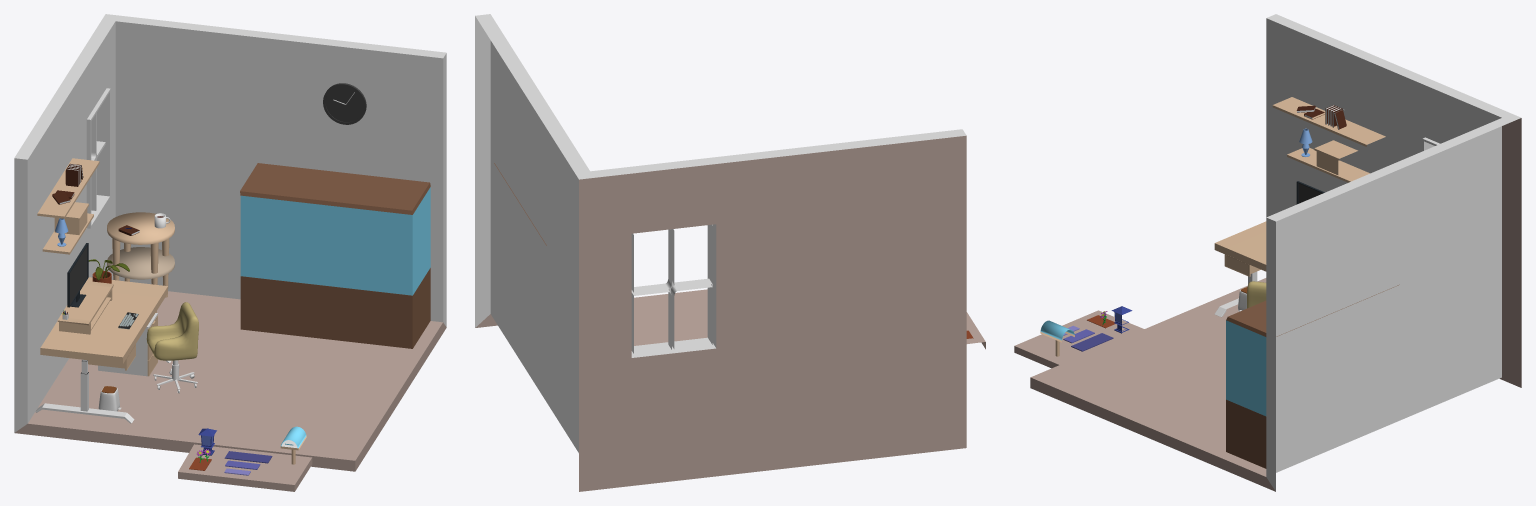
File: Room.glb
3 renders of one model, left to right at view 1: azimuth 30°, elevation 25°; view 2: azimuth 150°, elevation 25°; view 3: azimuth 270°, elevation 25°, orthographic. The views are drawn at different scales.
Parts seen in each view (by area): view 1: 3D Walls, Base/Top, Water, Table Top, Mini floor, Plane.001, Cube.015, Table Monitor, Top base, Watch, Sub base, Table Large (+7 smaller); view 2: 3D Walls, Plane.001; view 3: 3D Walls, Water, Base/Top, Mini floor, Table Top, Table Large, Table Short, Carton Box.
Part boxes in pixels (x1,y1,x2,y2): 3D Walls: (14,14,446,471); Base/Top: (240,163,430,348); Water: (240,187,430,295); Table Top: (40,277,167,364); Mini floor: (178,444,312,491); Plane.001: (86,88,110,228); Cube.015: (146,302,198,360); Table Monitor: (57,281,113,334); Top base: (107,212,174,244); Watch: (323,83,366,124); Sub base: (107,247,174,279); Table Large: (37,158,99,218); 3D Walls: (475,14,966,491); Plane.001: (631,224,712,354); 3D Walls: (1030,14,1521,491); Water: (1226,320,1266,416); Base/Top: (1226,284,1399,468); Mini floor: (1014,310,1144,368); Table Top: (1214,221,1266,271); Table Large: (1272,97,1385,146); Table Short: (1287,148,1369,182); Carton Box: (1314,140,1357,174).
Bounding box in the file's own units: 14.38 × 8.73 × 14.85.
